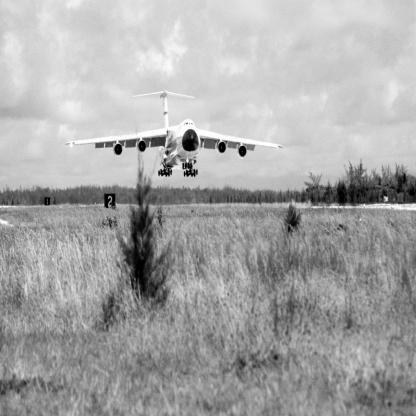C5: (66, 91, 285, 178)
